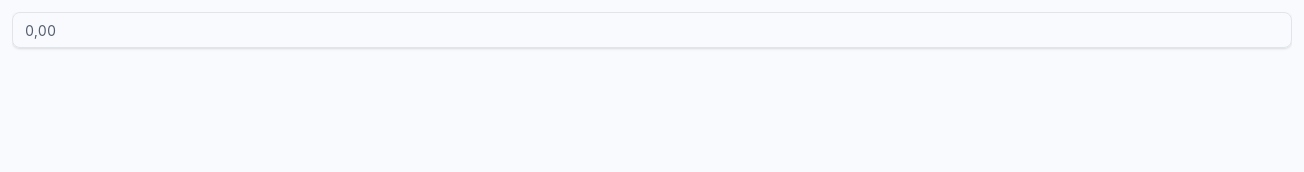
Test: DecimalInput — onChange con texto › escribir punto se convierte a coma automáticamente
This screenshot has width=1304, height=172.
Type "4.5" into the field named "num" at (652, 30), box top-left (12, 12), bottom-right (1292, 48)
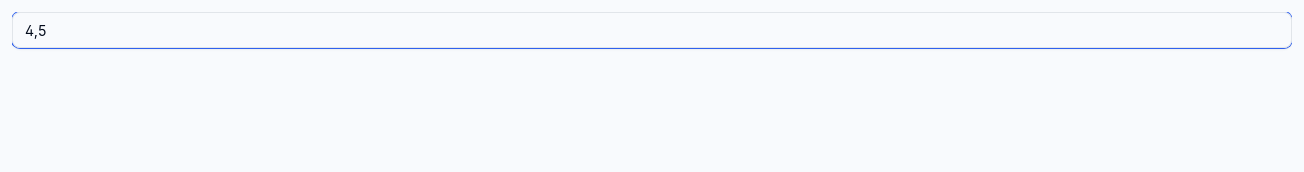
Check: the field named "num" holds "4,5", box top-left (12, 12), bottom-right (1292, 48)
